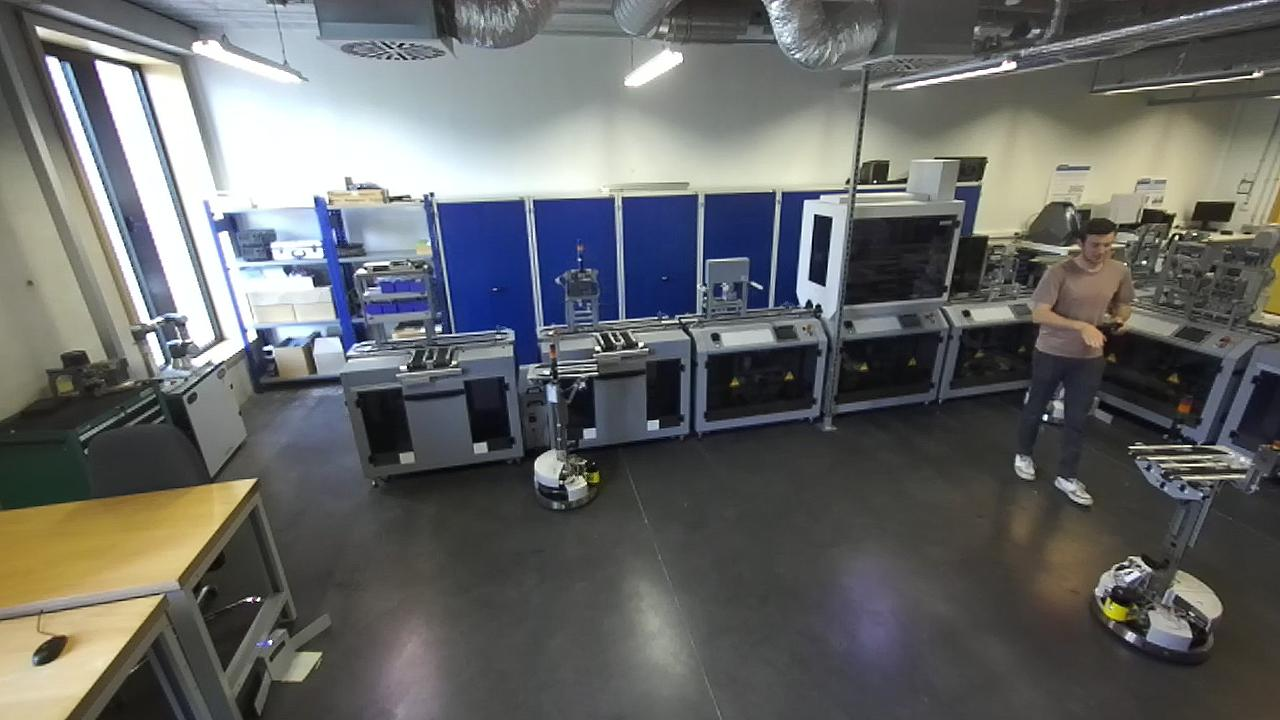AMR: (1094, 399, 1279, 672), (519, 336, 605, 513)
Human: (1006, 215, 1125, 513)
